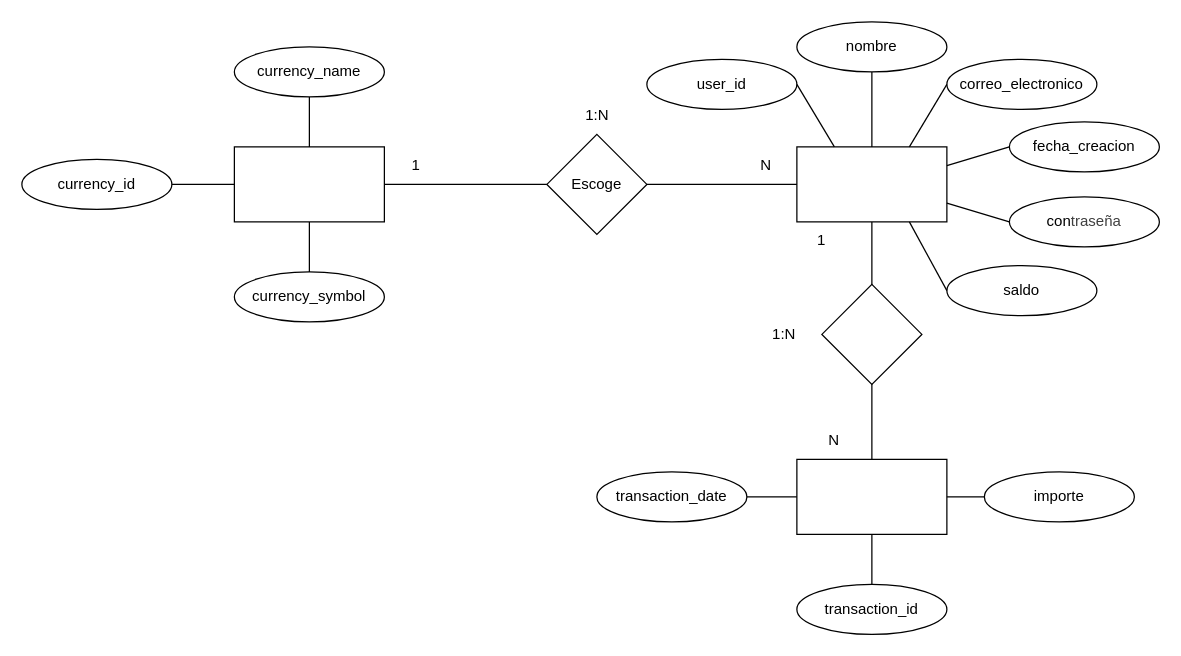
Image size: 1181x656. Some labels were removed from this diagram. Each missing label, with the centre of its shape:
"Emite/ Recibe" belongs at point (871, 333).
"Moneda" belongs at point (308, 184).
"Transaccion" belongs at point (871, 496).
"Usuario" belongs at point (871, 184).
